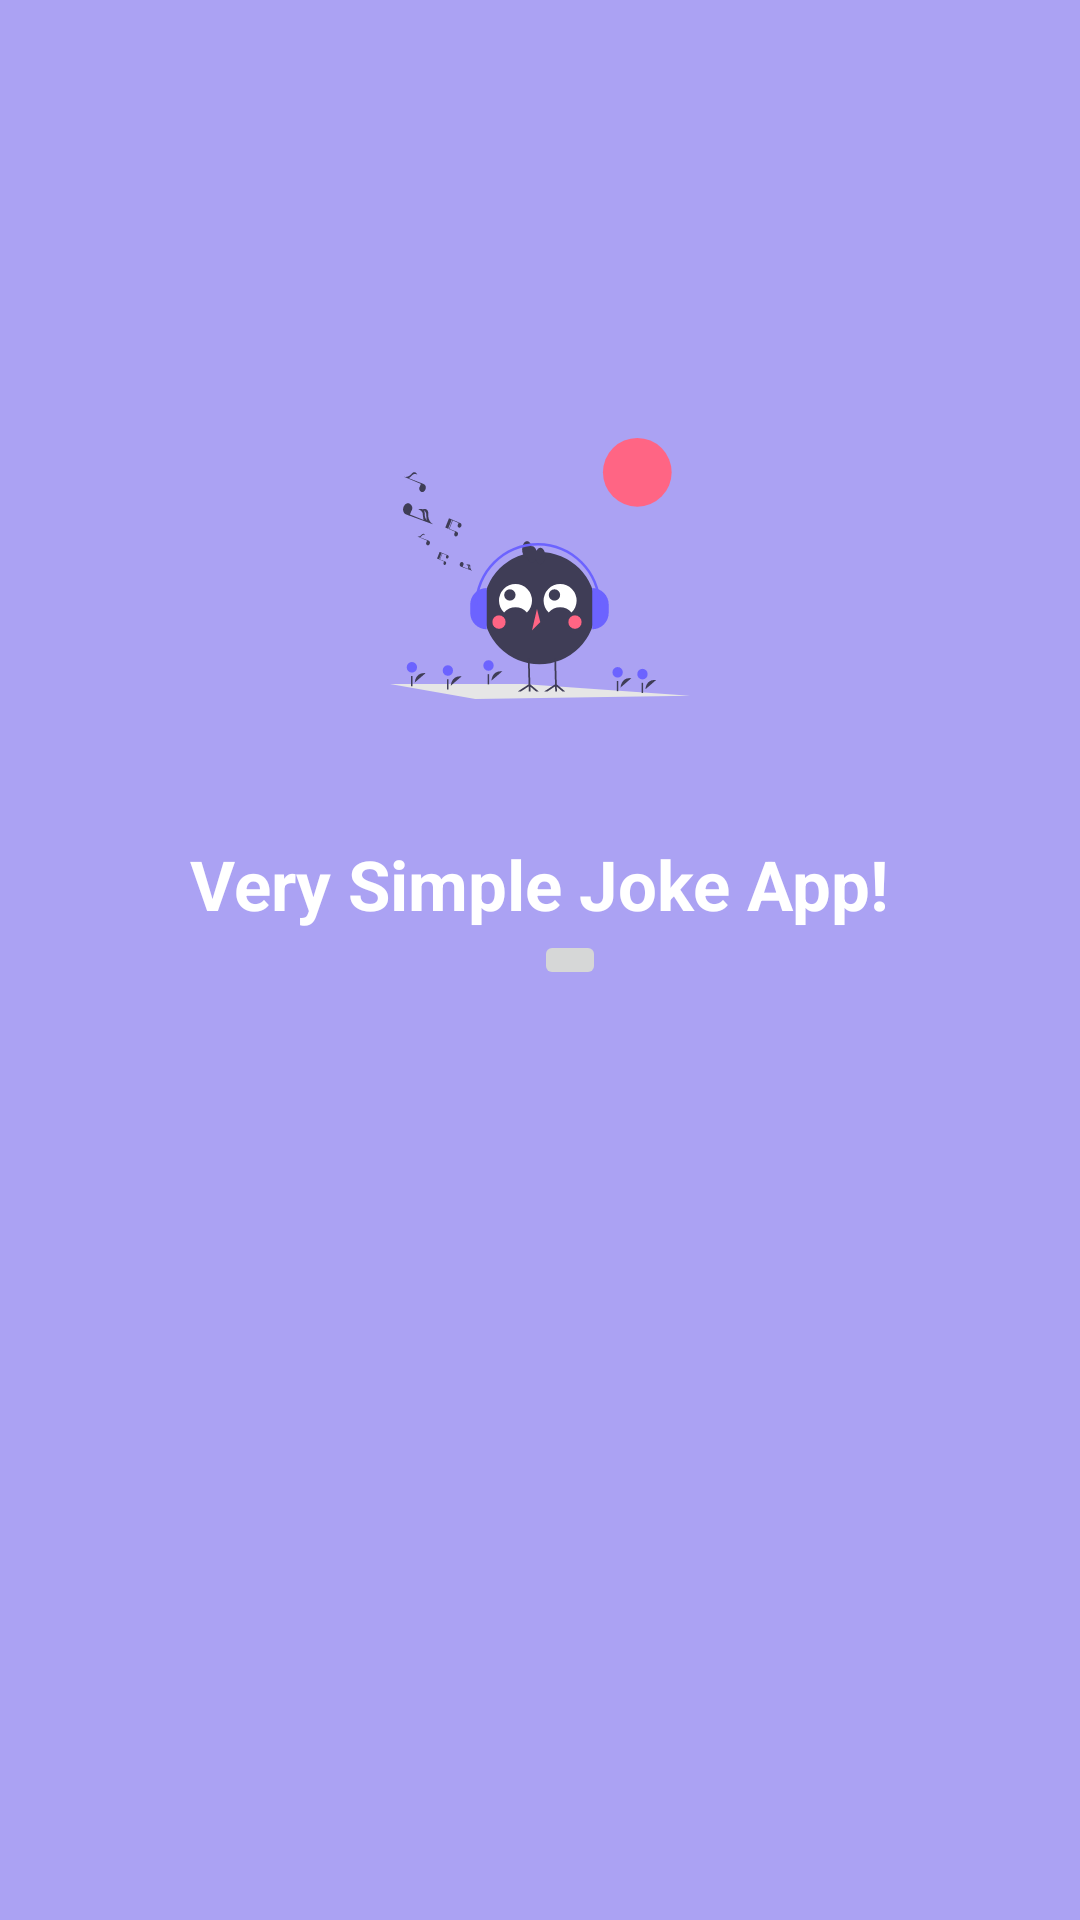

Locate icon controls on the screen. Image size 1080px x 1920px, boxes as [left=x1, top=y1, right=x2, bottom=y2].
undraw happy music wc: [left=392, top=438, right=686, bottom=699]
